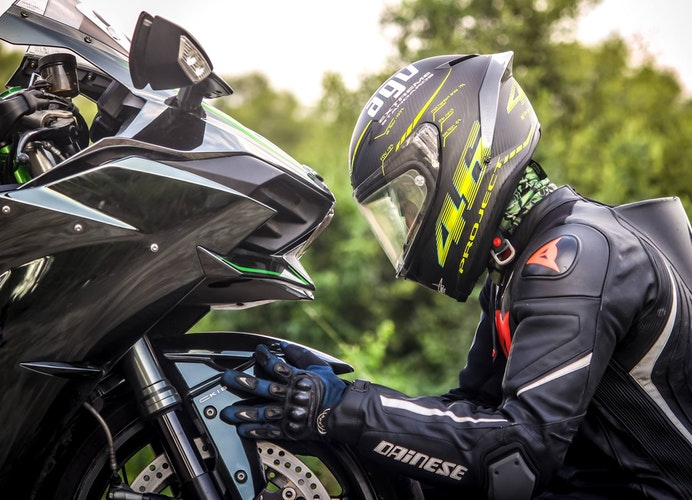helmet: (345, 61, 543, 255)
